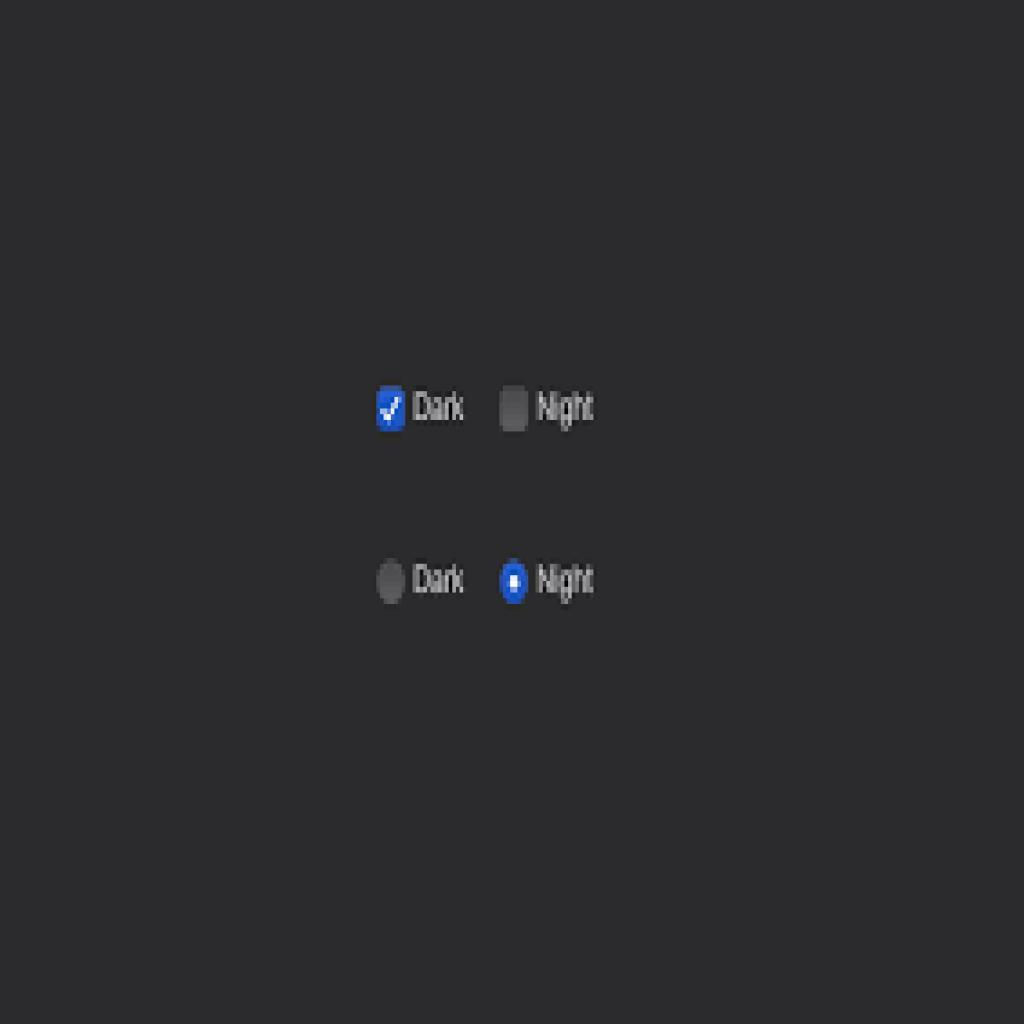checkbox: (374, 387, 409, 432), (500, 385, 532, 434)
label: (537, 384, 599, 432), (536, 558, 594, 606), (412, 557, 466, 602), (414, 386, 467, 429)
radio: (498, 560, 533, 607), (375, 562, 408, 605)
